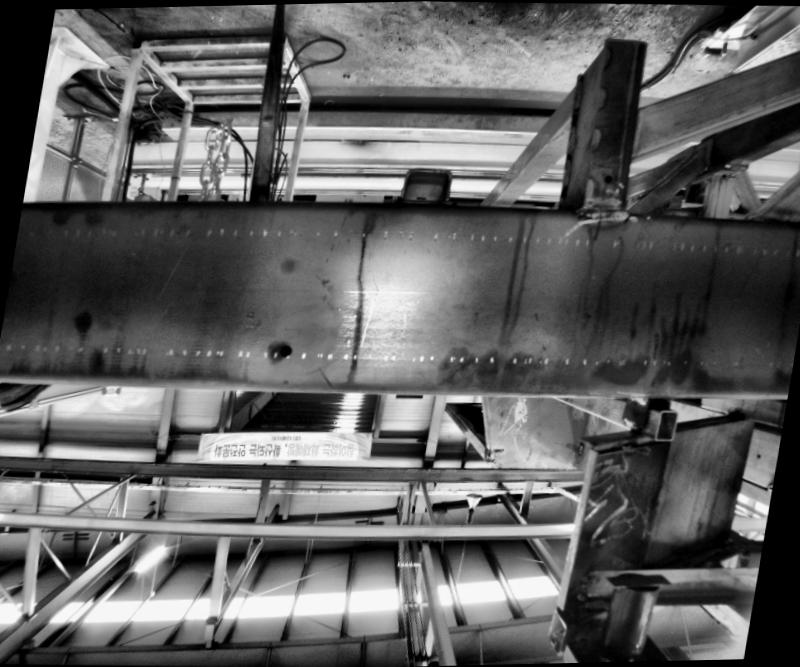bracket: (386, 156, 466, 202)
hole: (278, 342, 290, 354), (602, 173, 613, 182)
welding: (576, 190, 627, 213)
